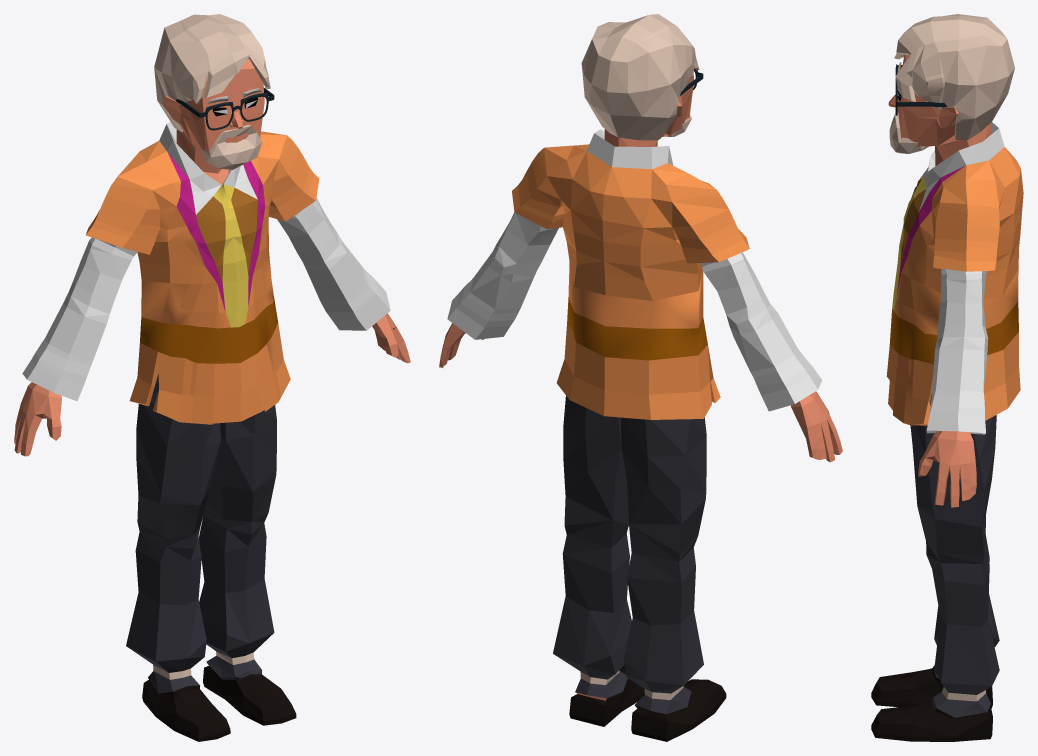
Rendered from XR_model_chef.fbx.
The picture shows the model from 3 angles, left to right: view 1: azimuth 30°, elevation 25°; view 2: azimuth 150°, elevation 25°; view 3: azimuth 270°, elevation 25°; orthographic projection.
Visible parts, largest first — view 1: Character_Female_Hotel Owner.001; view 2: Character_Female_Hotel Owner.001; view 3: Character_Female_Hotel Owner.001.
Part boxes in pixels (<box>): Character_Female_Hotel Owner.001: <box>14,14,410,741</box>; Character_Female_Hotel Owner.001: <box>439,14,842,741</box>; Character_Female_Hotel Owner.001: <box>871,14,1023,741</box>.
Bounding box in the file's own units: 102 × 172 × 34.09.
